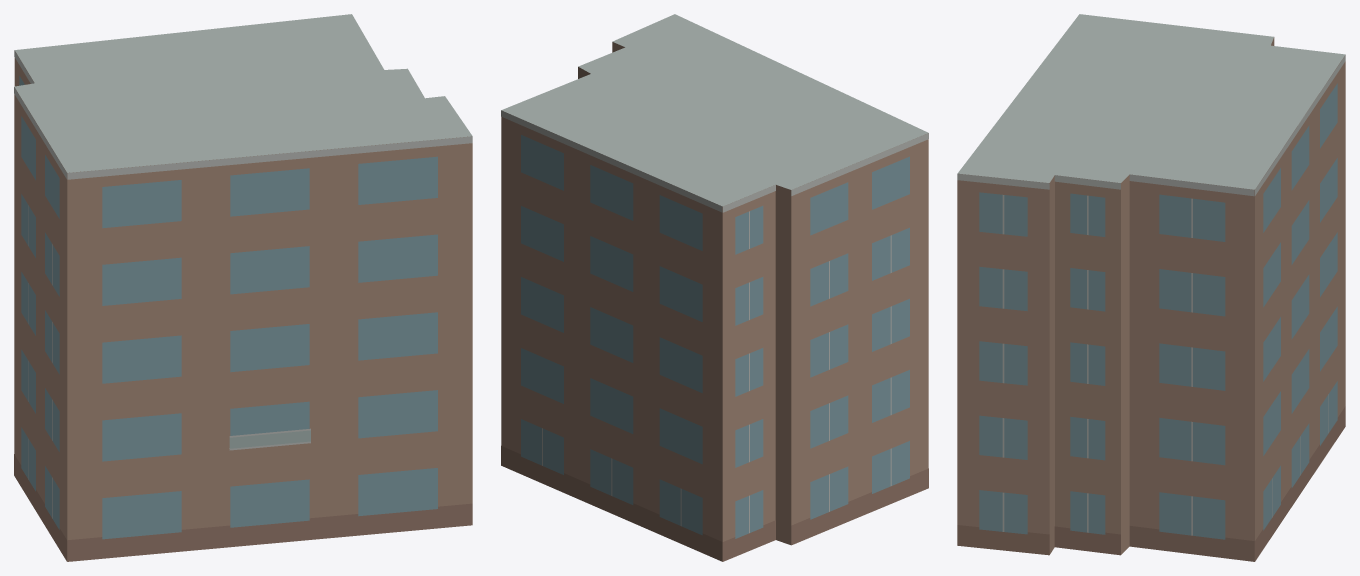
Rendered from survey-upis-32525542.glb.
3 views of the same model, side by side, from view 1: azimuth 30°, elevation 25°; view 2: azimuth 150°, elevation 25°; view 3: azimuth 270°, elevation 25° (orthographic). The views are drawn at different scales.
Parts seen in each view (by area): view 1: survey-upis-32525542.tmp; view 2: survey-upis-32525542.tmp; view 3: survey-upis-32525542.tmp.
Part boxes in pixels (<box>): survey-upis-32525542.tmp: <box>14,14,472,561</box>; survey-upis-32525542.tmp: <box>501,14,928,561</box>; survey-upis-32525542.tmp: <box>957,14,1345,561</box>.
Bounding box in the file's own units: 13.99 × 13.8 × 13.06.
